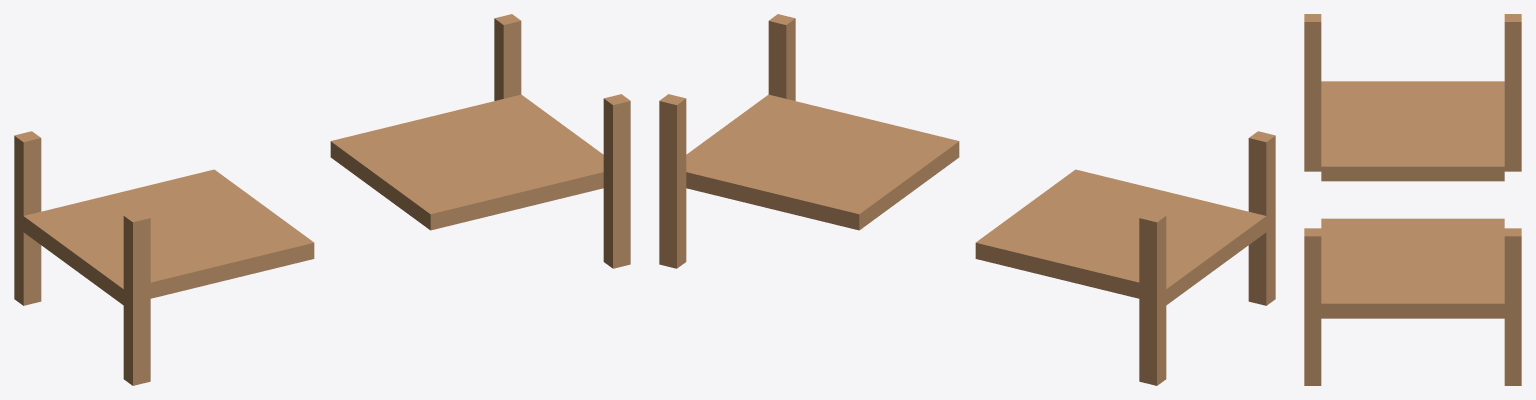
Rendered from bridge.fbx.
3 renders of one model, left to right at view 1: azimuth 30°, elevation 25°; view 2: azimuth 150°, elevation 25°; view 3: azimuth 270°, elevation 25°, orthographic. The views are drawn at different scales.
Visible parts, largest first — view 1: Cube; view 2: Cube; view 3: Cube.
Part boxes in pixels (x1,y1,x2,y2): Cube: (14,14,630,385); Cube: (659,14,1275,385); Cube: (1304,14,1521,385).
Size of the model in its own units: 1414 by 444 by 584.
